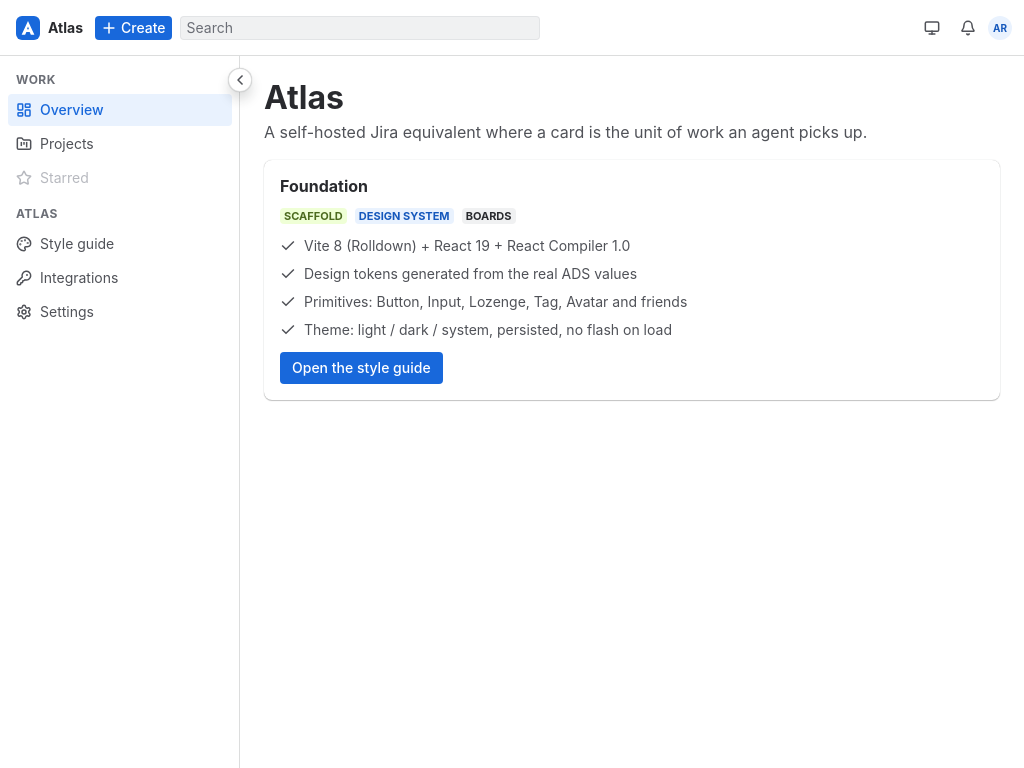
Test case: app shell › collapses and expands the sidebar
Expected: the heading "Atlas" is shown, [264, 78, 344, 117]
Click the button named "Collapse sidebar" at (240, 80), box [228, 68, 252, 92]
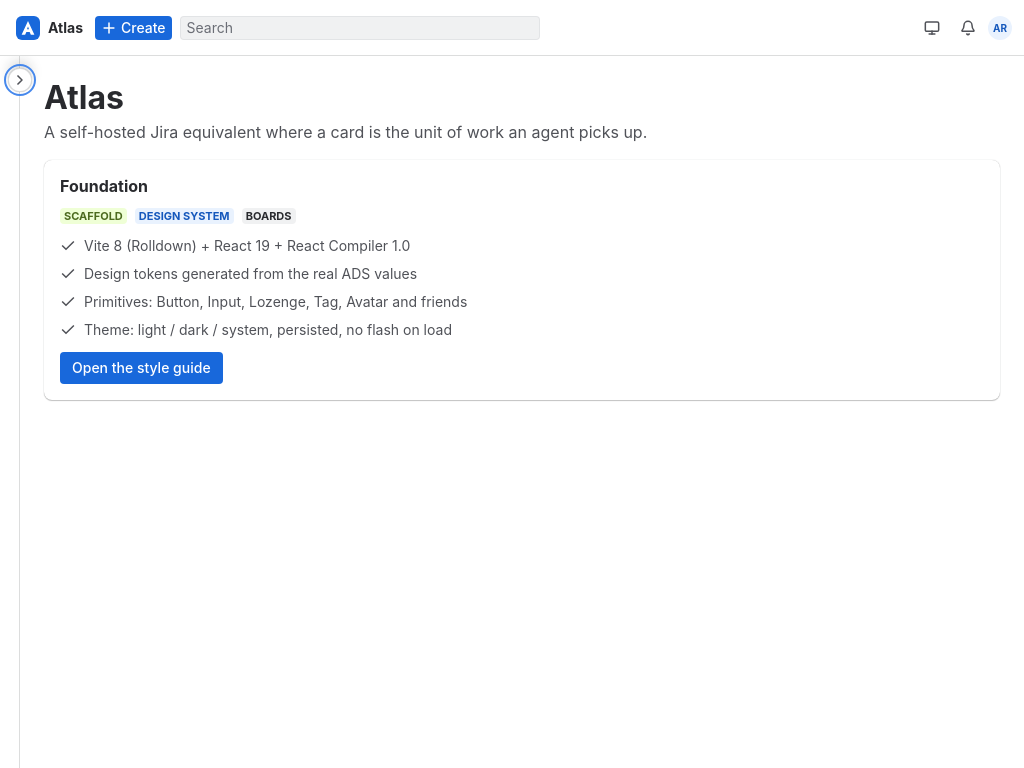
Now the button named "Expand sidebar" is collapsed
Click the button named "Expand sidebar" at (20, 80), box [8, 68, 32, 92]
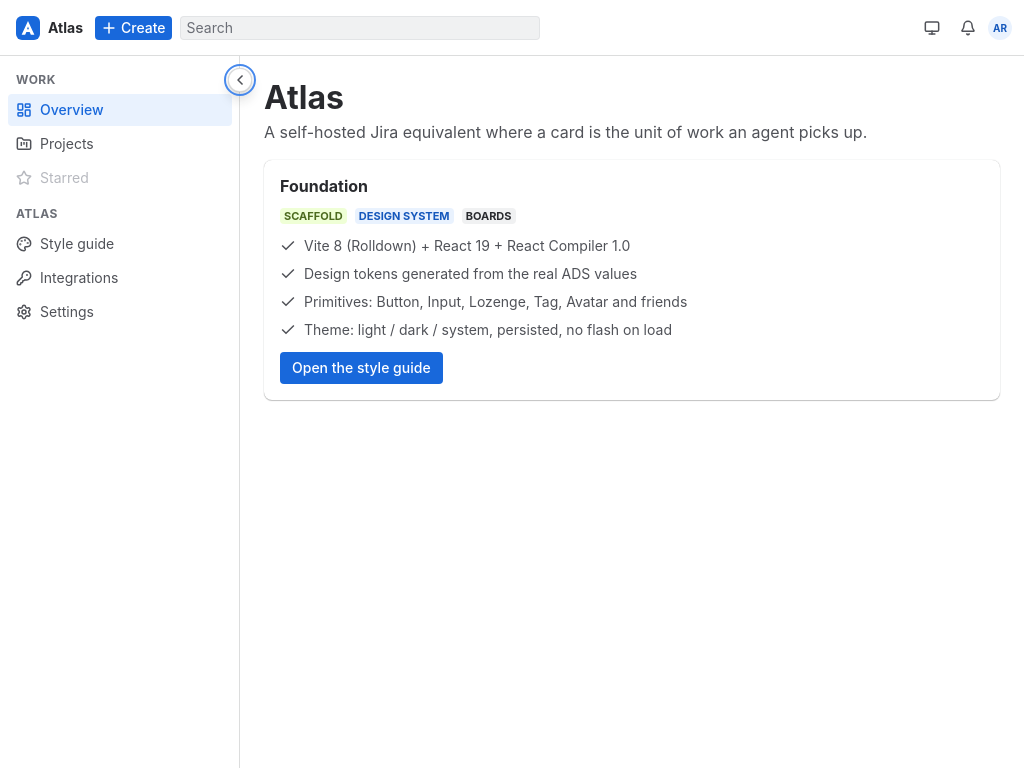
Now the button named "Collapse sidebar" is shown, box [228, 68, 252, 92]
